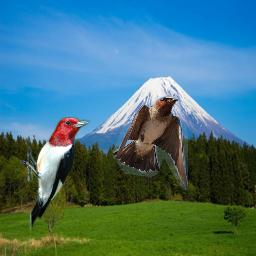Swallow: (113, 96, 188, 190)
Woodpecker: (19, 117, 91, 231)
